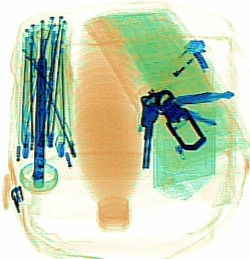lighter: (136, 34, 206, 102)
